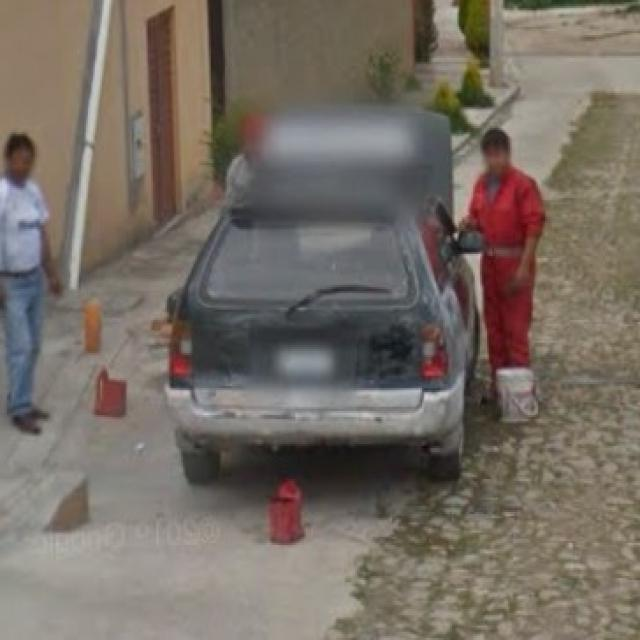car: (157, 122, 476, 485)
